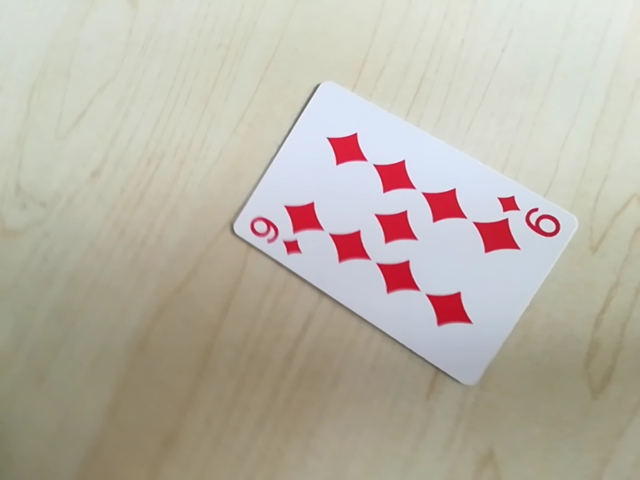fk 9: (493, 195, 569, 238), (240, 216, 303, 256)
